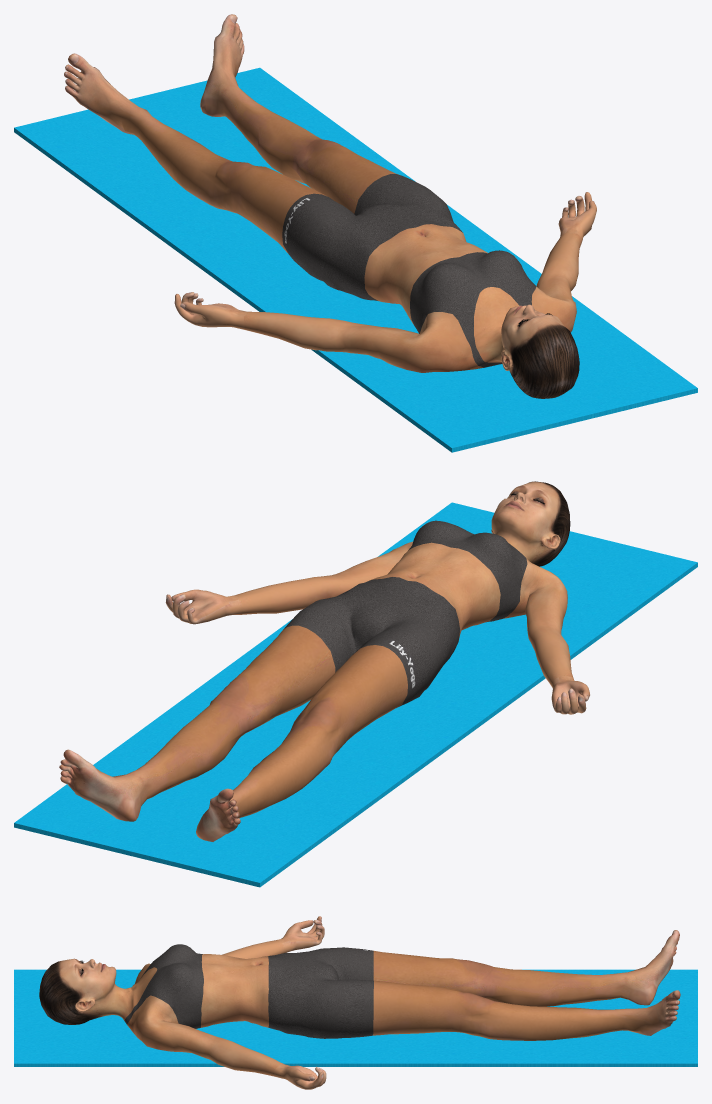
File: savasana.glb
The picture shows the model from 3 angles, top to bottom: view 1: azimuth 30°, elevation 25°; view 2: azimuth 150°, elevation 25°; view 3: azimuth 270°, elevation 25°; orthographic projection. The views are drawn at different scales.
Visible parts, largest first — view 1: FemaleSkin-material, mat_001-material; view 2: FemaleSkin-material, mat_001-material; view 3: FemaleSkin-material, mat_001-material.
Boxes of the visible parts, x1,y1,x2,y2 form: FemaleSkin-material: (64,14,596,398); mat_001-material: (14,67,697,452); FemaleSkin-material: (59,481,589,841); mat_001-material: (14,502,697,887); FemaleSkin-material: (39,916,680,1089); mat_001-material: (14,969,697,1066).
Bounding box in the file's own units: 3.4 × 0.6561 × 6.17.
2 materials, 2 textured.
